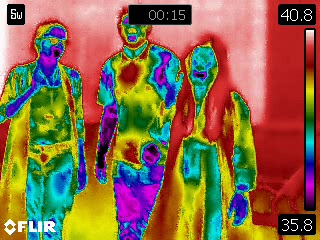human: (160, 30, 259, 240), (1, 18, 87, 233), (93, 7, 182, 171)
